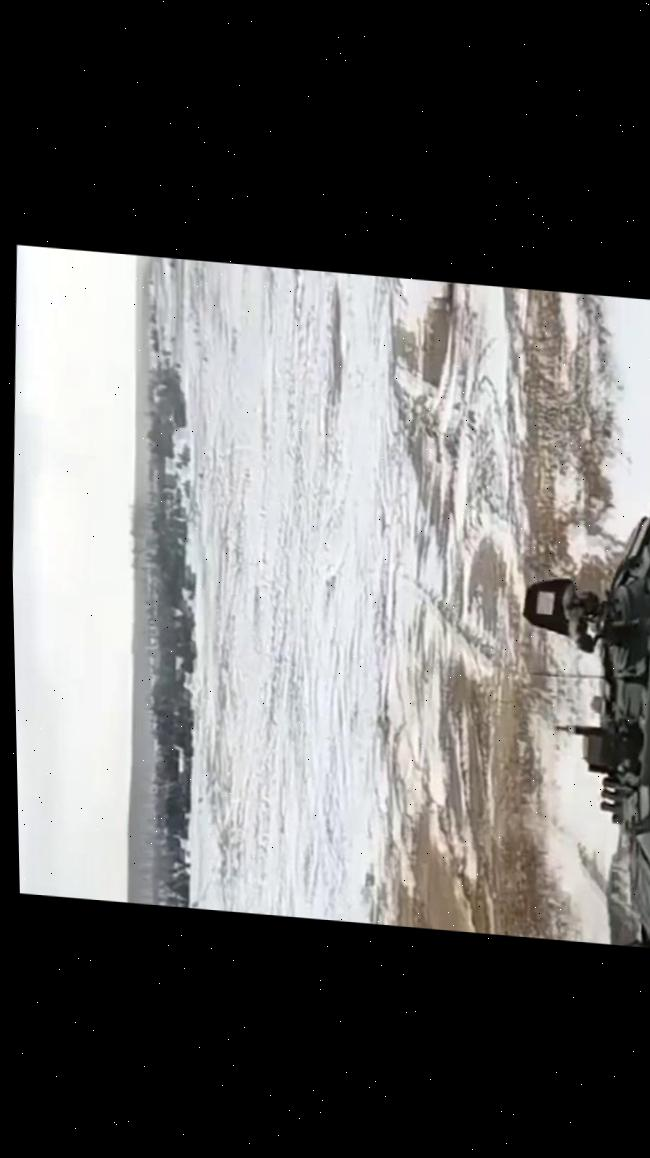tank: (501, 293, 650, 949)
